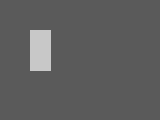person: (30, 30, 50, 70)
